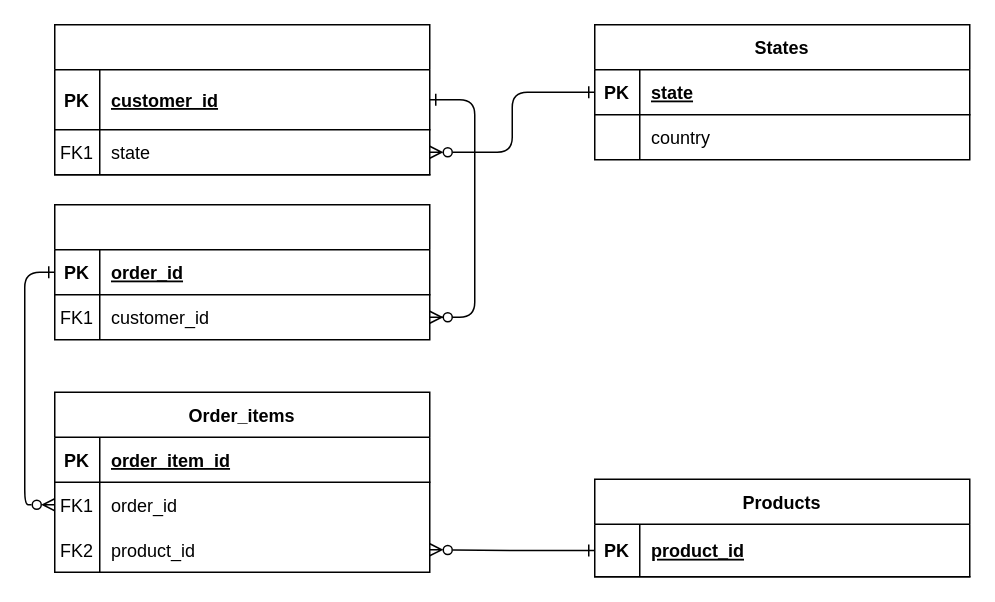
This 995x602 diagram has some shape labels left out. The box of each missing label's shape, as (x1, y1, x2, y2) in pixels:
Customers: (53, 23, 430, 175)
Orders: (53, 203, 430, 340)
